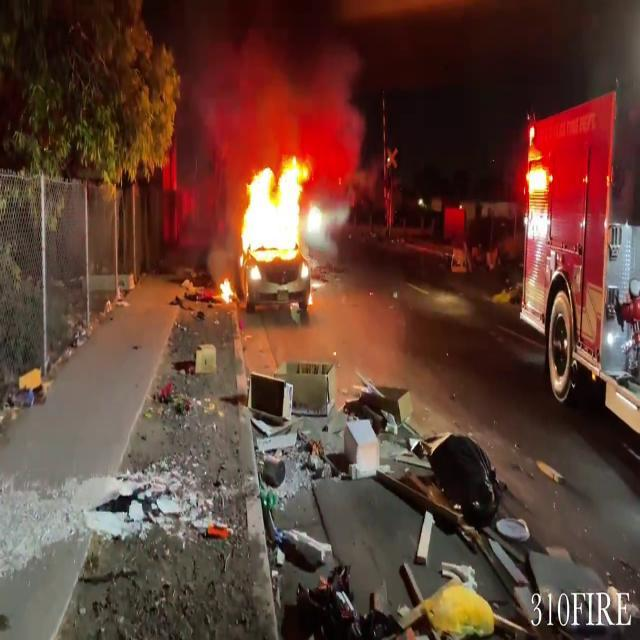Fire: (218, 148, 330, 293)
Smoke: (178, 0, 374, 164)
